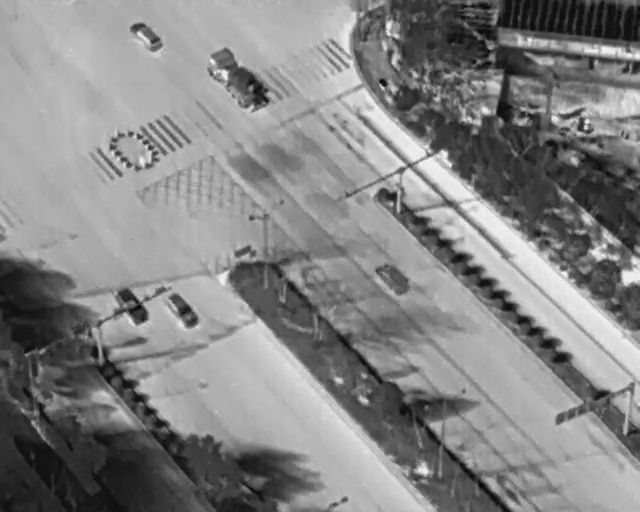Car: (200, 39, 277, 119), (371, 254, 415, 298), (111, 284, 153, 329), (163, 290, 203, 331), (126, 16, 166, 56)
